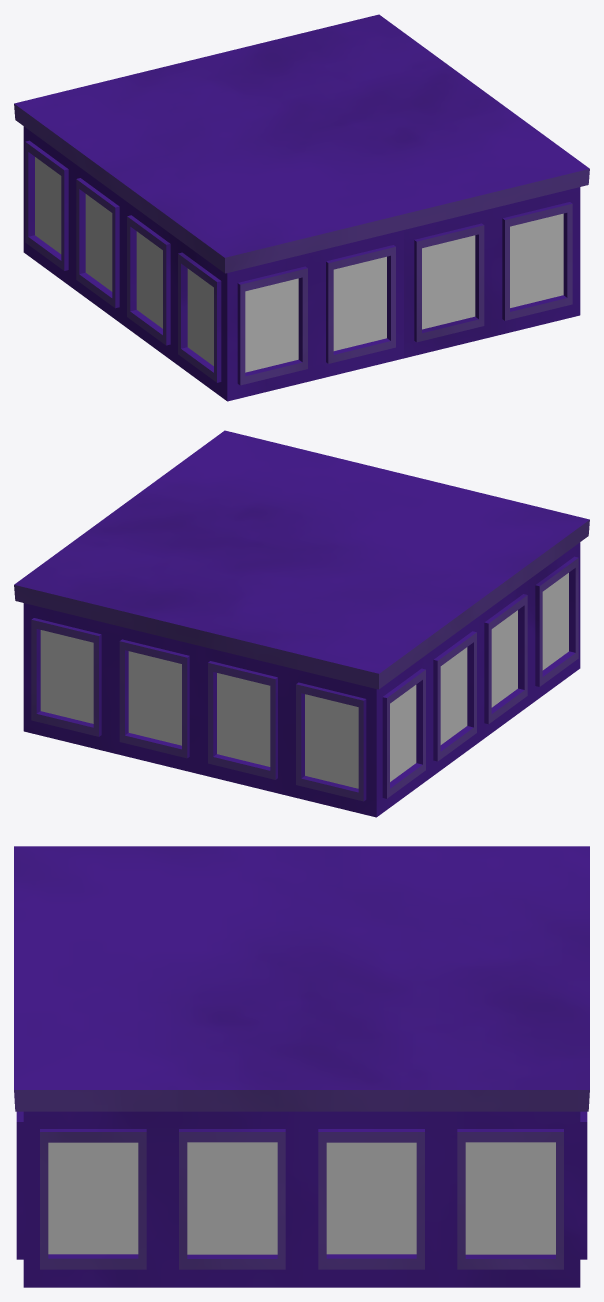
File: SM_ModularMiddleBuilding2.fbx
3 renders of one model, top to bottom at view 1: azimuth 30°, elevation 25°; view 2: azimuth 150°, elevation 25°; view 3: azimuth 270°, elevation 25°, orthographic. The views are drawn at different scales.
Parts seen in each view (by area): view 1: MiddleBuilding2; view 2: MiddleBuilding2; view 3: MiddleBuilding2.
Part boxes in pixels (bbox=[...]): MiddleBuilding2: bbox=[14, 14, 589, 401]; MiddleBuilding2: bbox=[14, 430, 589, 817]; MiddleBuilding2: bbox=[14, 846, 589, 1287].
Size of the model in its own units: 10.35 by 4 by 10.35.
